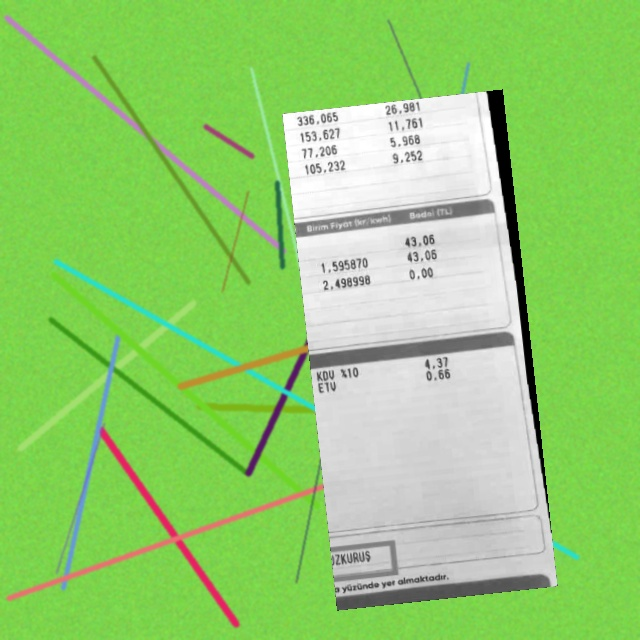electricity-bill: (282, 89, 558, 611)
